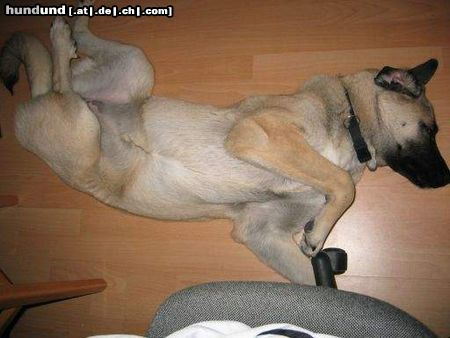kangal: (0, 17, 450, 286)
